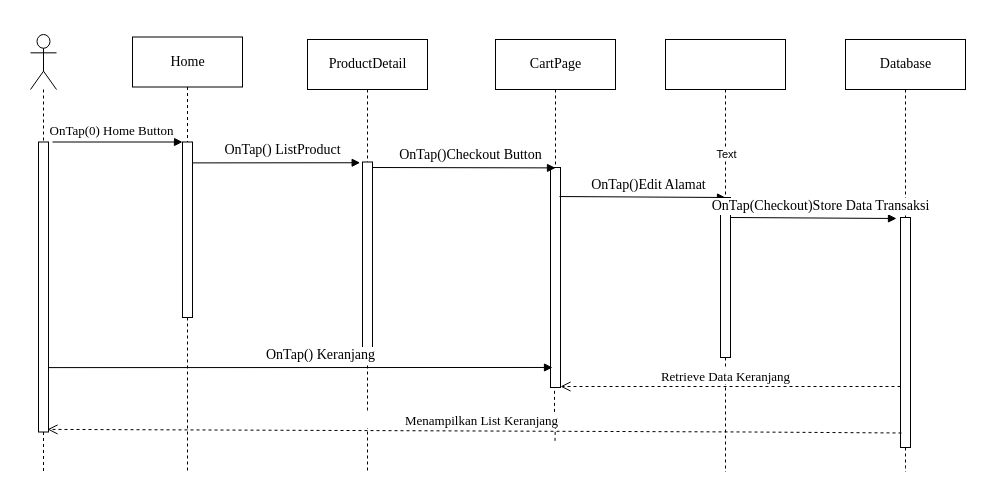
This 983x491 diagram has some shape labels left out. The shapes that lost their labels are listed below. From the top down, each one's box as (x1, y1, x2, y2) in pixels, then its label:
(30, 34, 56, 90): Customer
(664, 38, 786, 90): CheckoutPage
